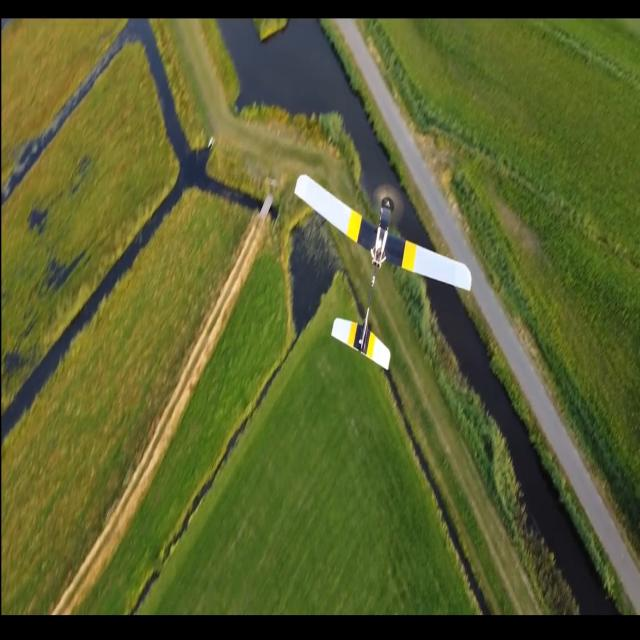iha: (298, 161, 471, 377)
